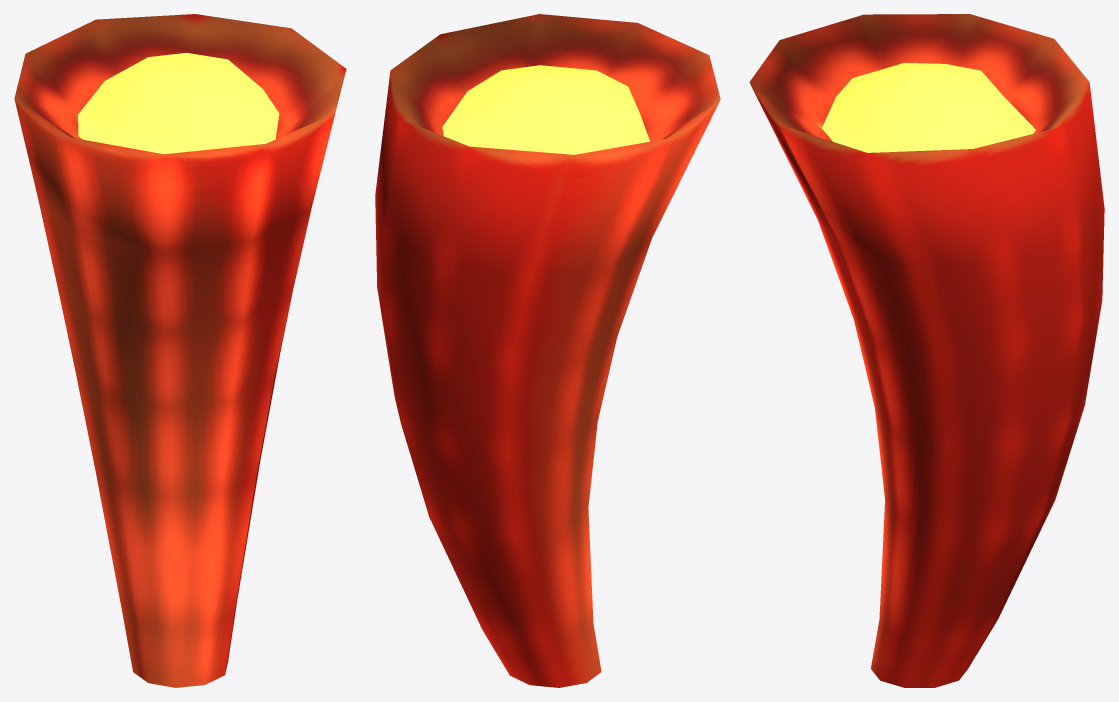
Rendered from 5 grib.fbx.
3 views of the same model, side by side, from view 1: azimuth 30°, elevation 25°; view 2: azimuth 150°, elevation 25°; view 3: azimuth 270°, elevation 25° (orthographic).
Parts seen in each view (by area): view 1: lp1.005; view 2: lp1.005; view 3: lp1.005.
Part boxes in pixels (x1,y1,x2,y2): lp1.005: (14,14,346,687); lp1.005: (375,14,720,687); lp1.005: (749,14,1104,687).
Size of the model in its own units: 942 by 1876 by 1028.
